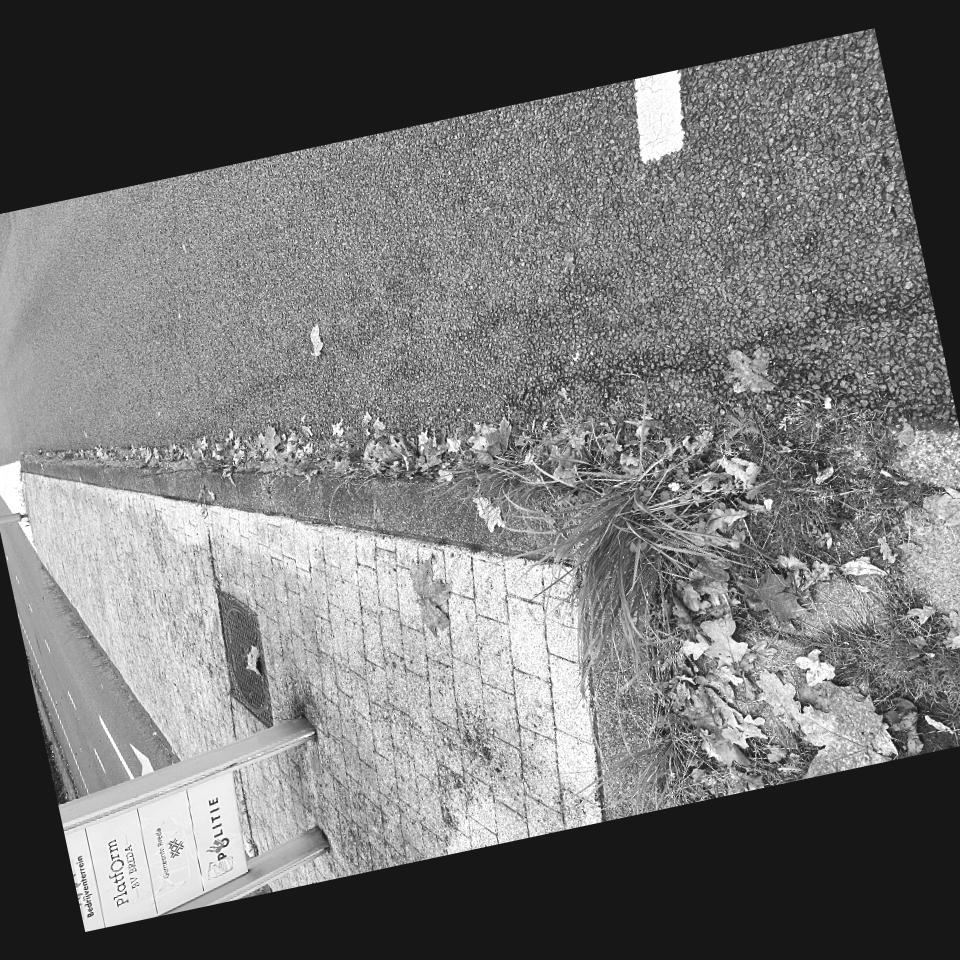weed: (553, 482, 704, 654), (23, 429, 371, 477), (795, 613, 960, 706), (469, 444, 659, 523), (748, 454, 831, 555), (577, 739, 667, 815), (387, 427, 416, 454), (735, 435, 759, 456)
